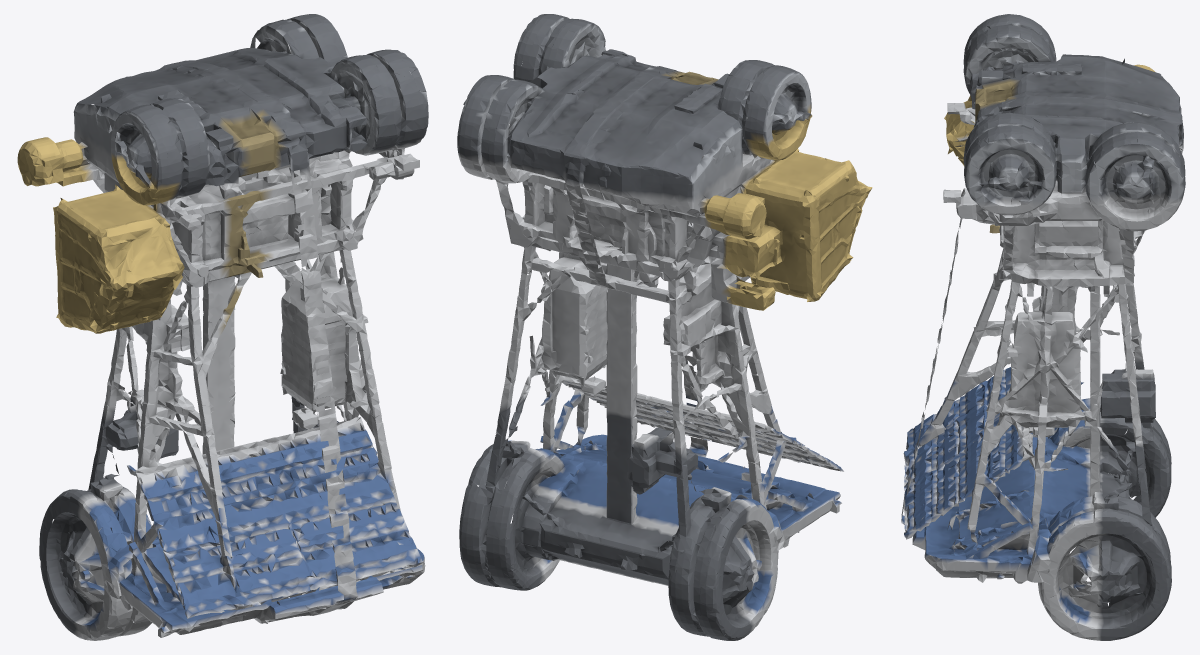
File: c_climber.glb
3 renders of one model, left to right at view 1: azimuth 30°, elevation 25°; view 2: azimuth 150°, elevation 25°; view 3: azimuth 270°, elevation 25°, orthographic. The views are drawn at different scales.
Bounding box in the file's own units: 0.6081 × 0.9793 × 0.4907.
